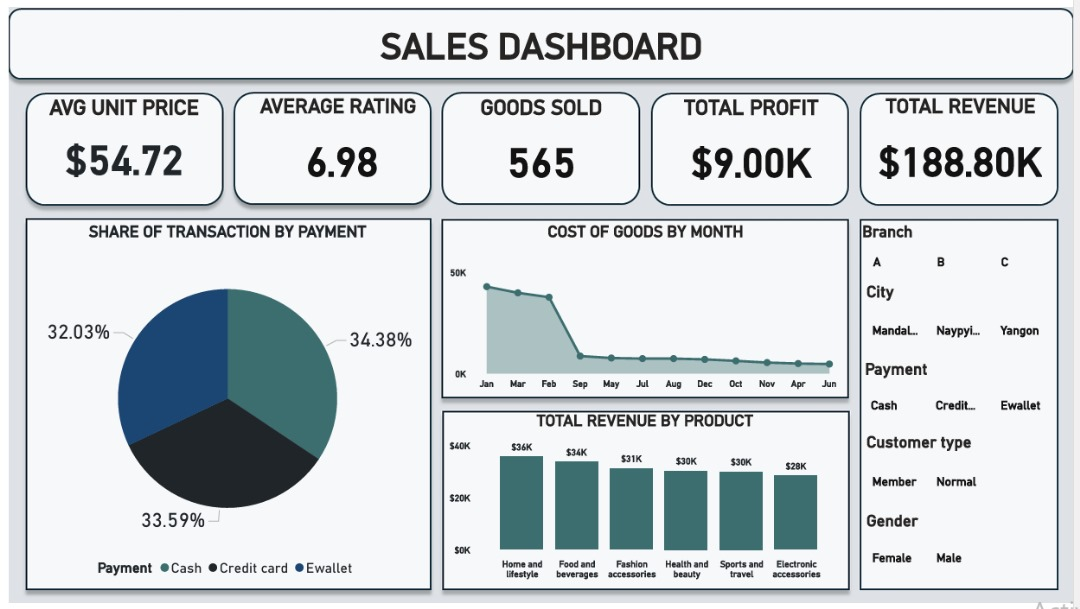

The dashboard page shown, as its layout file describes it:
{"tool":"powerbi","page":{"name":"Page 1","canvas":[1280,720],"ordinal":0},"visuals":[{"type":"textbox","box":[0,0,1279.4,75.6],"z":0},{"type":"cardVisual","title":"TOTAL PROFIT","fields":{"Data":["Sum(sales. gross income )"]},"box":[776.8,105.6,229,125.5],"z":1000},{"type":"cardVisual","title":"GOODS SOLD","fields":{"Data":["Count(sales.Invoice ID)"]},"box":[523.8,105.6,231,125.5],"z":2000},{"type":"cardVisual","title":"AVG UNIT PRICE","fields":{"Data":["Avg(sales. Unit price )"]},"box":[19.9,105.6,235,125.5],"z":3000},{"type":"cardVisual","title":"AVERAGE RATING","fields":{"Data":["Avg(sales.Rating)"]},"box":[296.8,105.6,207.1,125.5],"z":4000},{"type":"cardVisual","title":"TOTAL REVENUE","fields":{"Data":["Sum(sales. Total revenue )"]},"box":[1021.8,105.6,243,125.5],"z":5000},{"type":"advancedSlicerVisual","fields":{"Values":["sales.Branch"]},"box":[1021.2,259.3,235.4,71.6],"z":6000},{"type":"advancedSlicerVisual","fields":{"Values":["sales.City"]},"box":[1025.7,330.6,235,93.6],"z":7000},{"type":"advancedSlicerVisual","fields":{"Values":["sales.Gender"]},"box":[1025.7,607.5,235,89.6],"z":8000},{"type":"advancedSlicerVisual","fields":{"Values":["sales.Customer type"]},"box":[1025.7,511.9,235,95.6],"z":9000},{"type":"advancedSlicerVisual","fields":{"Values":["sales.Payment"]},"box":[1023.8,424.2,237,87.6],"z":10000},{"type":"lineChart","title":"COST OF GOODS BY MONTH","fields":{"Y":["Sum(sales. cost of goods sold )"],"Category":["sales.month"]},"box":[523.3,259.3,482,208.4],"z":11000},{"type":"clusteredColumnChart","title":"TOTAL REVENUE BY PRODUCT","fields":{"Y":["Sum(sales. Total revenue )"],"Category":["sales.Product line"]},"box":[524.9,486.7,480.4,210],"z":12000},{"type":"pieChart","title":"SHARE OF TRANSACTION BY PAYMENT","fields":{"Category":["sales.Payment"],"Y":["Count(sales. gross income )"]},"box":[20.7,259.3,483.5,437.4],"z":13000}]}

Visuals, with their boxes in screenshot pixels (x1, y1, x2, y2), scaled from the page's 1280x720 canvas onto the 1080x609 screenshot:
textbox: {"x1": 0, "y1": 0, "x2": 1079, "y2": 64}
"TOTAL PROFIT" cardVisual: {"x1": 655, "y1": 89, "x2": 849, "y2": 195}
"GOODS SOLD" cardVisual: {"x1": 442, "y1": 89, "x2": 637, "y2": 195}
"AVG UNIT PRICE" cardVisual: {"x1": 17, "y1": 89, "x2": 215, "y2": 195}
"AVERAGE RATING" cardVisual: {"x1": 250, "y1": 89, "x2": 425, "y2": 195}
"TOTAL REVENUE" cardVisual: {"x1": 862, "y1": 89, "x2": 1067, "y2": 195}
advancedSlicerVisual - sales.Branch: {"x1": 862, "y1": 219, "x2": 1060, "y2": 280}
advancedSlicerVisual - sales.City: {"x1": 865, "y1": 280, "x2": 1064, "y2": 359}
advancedSlicerVisual - sales.Gender: {"x1": 865, "y1": 514, "x2": 1064, "y2": 590}
advancedSlicerVisual - sales.Customer type: {"x1": 865, "y1": 433, "x2": 1064, "y2": 514}
advancedSlicerVisual - sales.Payment: {"x1": 864, "y1": 359, "x2": 1064, "y2": 433}
"COST OF GOODS BY MONTH" lineChart: {"x1": 442, "y1": 219, "x2": 848, "y2": 396}
"TOTAL REVENUE BY PRODUCT" clusteredColumnChart: {"x1": 443, "y1": 412, "x2": 848, "y2": 589}
"SHARE OF TRANSACTION BY PAYMENT" pieChart: {"x1": 17, "y1": 219, "x2": 425, "y2": 589}
